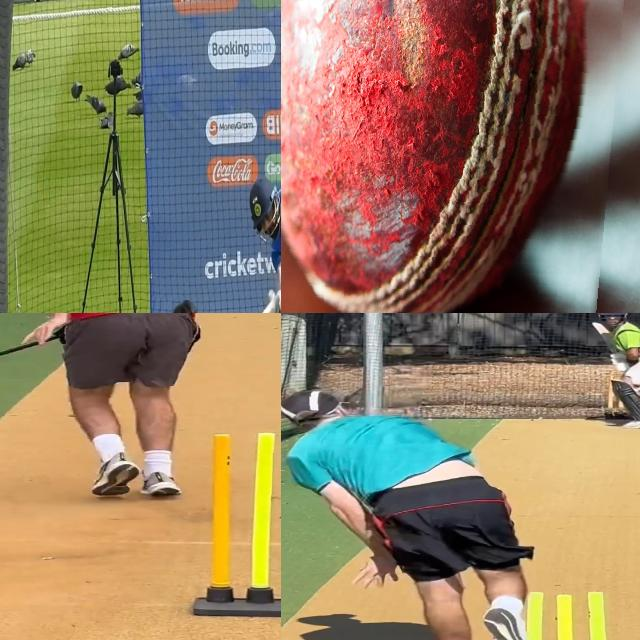Cricket ball: (281, 0, 640, 313)
Stumps: (190, 430, 281, 620), (521, 590, 618, 640)
